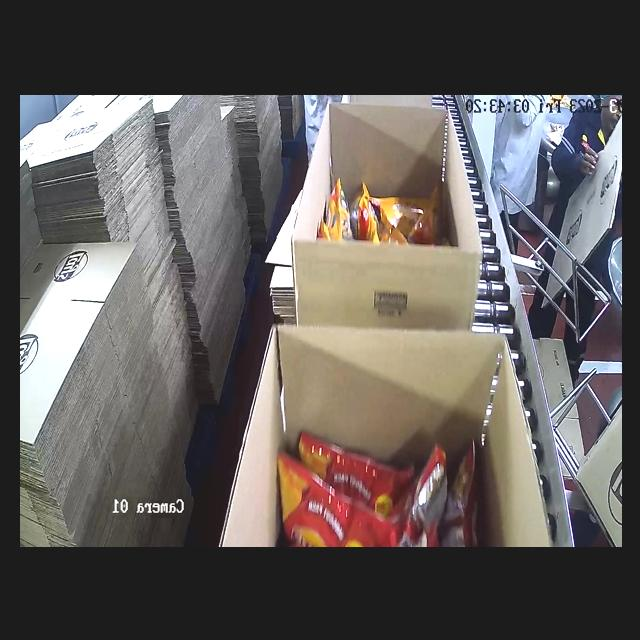cheese: (303, 174, 452, 259)
masala: (293, 439, 496, 541)
